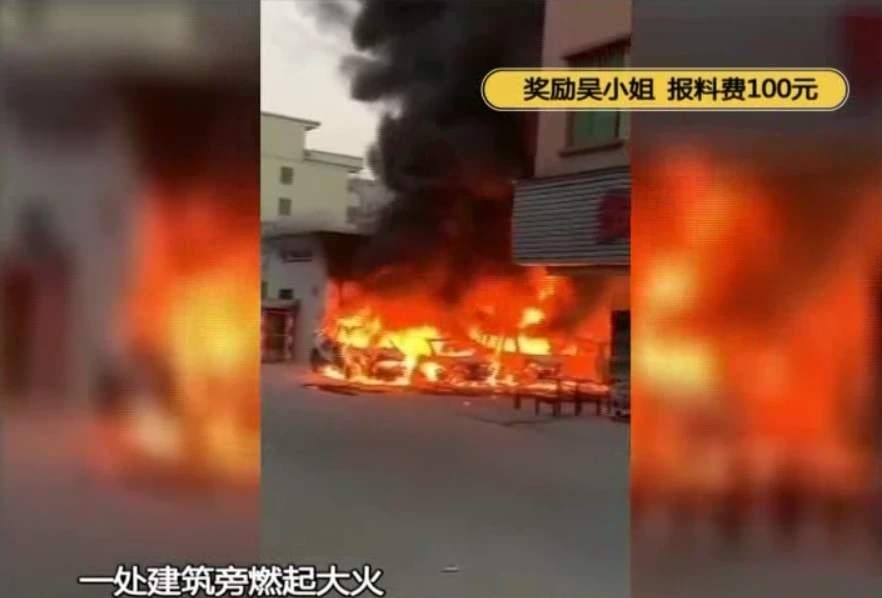fire: (316, 272, 585, 391)
